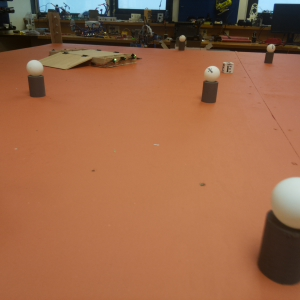blockE: (221, 61, 236, 74)
corner: (49, 10, 64, 44)
obstacle: (256, 172, 300, 283), (27, 60, 48, 98), (202, 66, 220, 105), (266, 44, 277, 65), (177, 35, 185, 53)
side: (91, 54, 135, 67)
slope: (41, 54, 91, 72), (135, 55, 144, 63)
